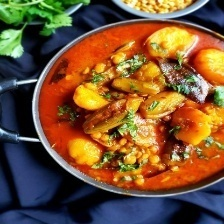sabzi: (31, 17, 224, 198)
